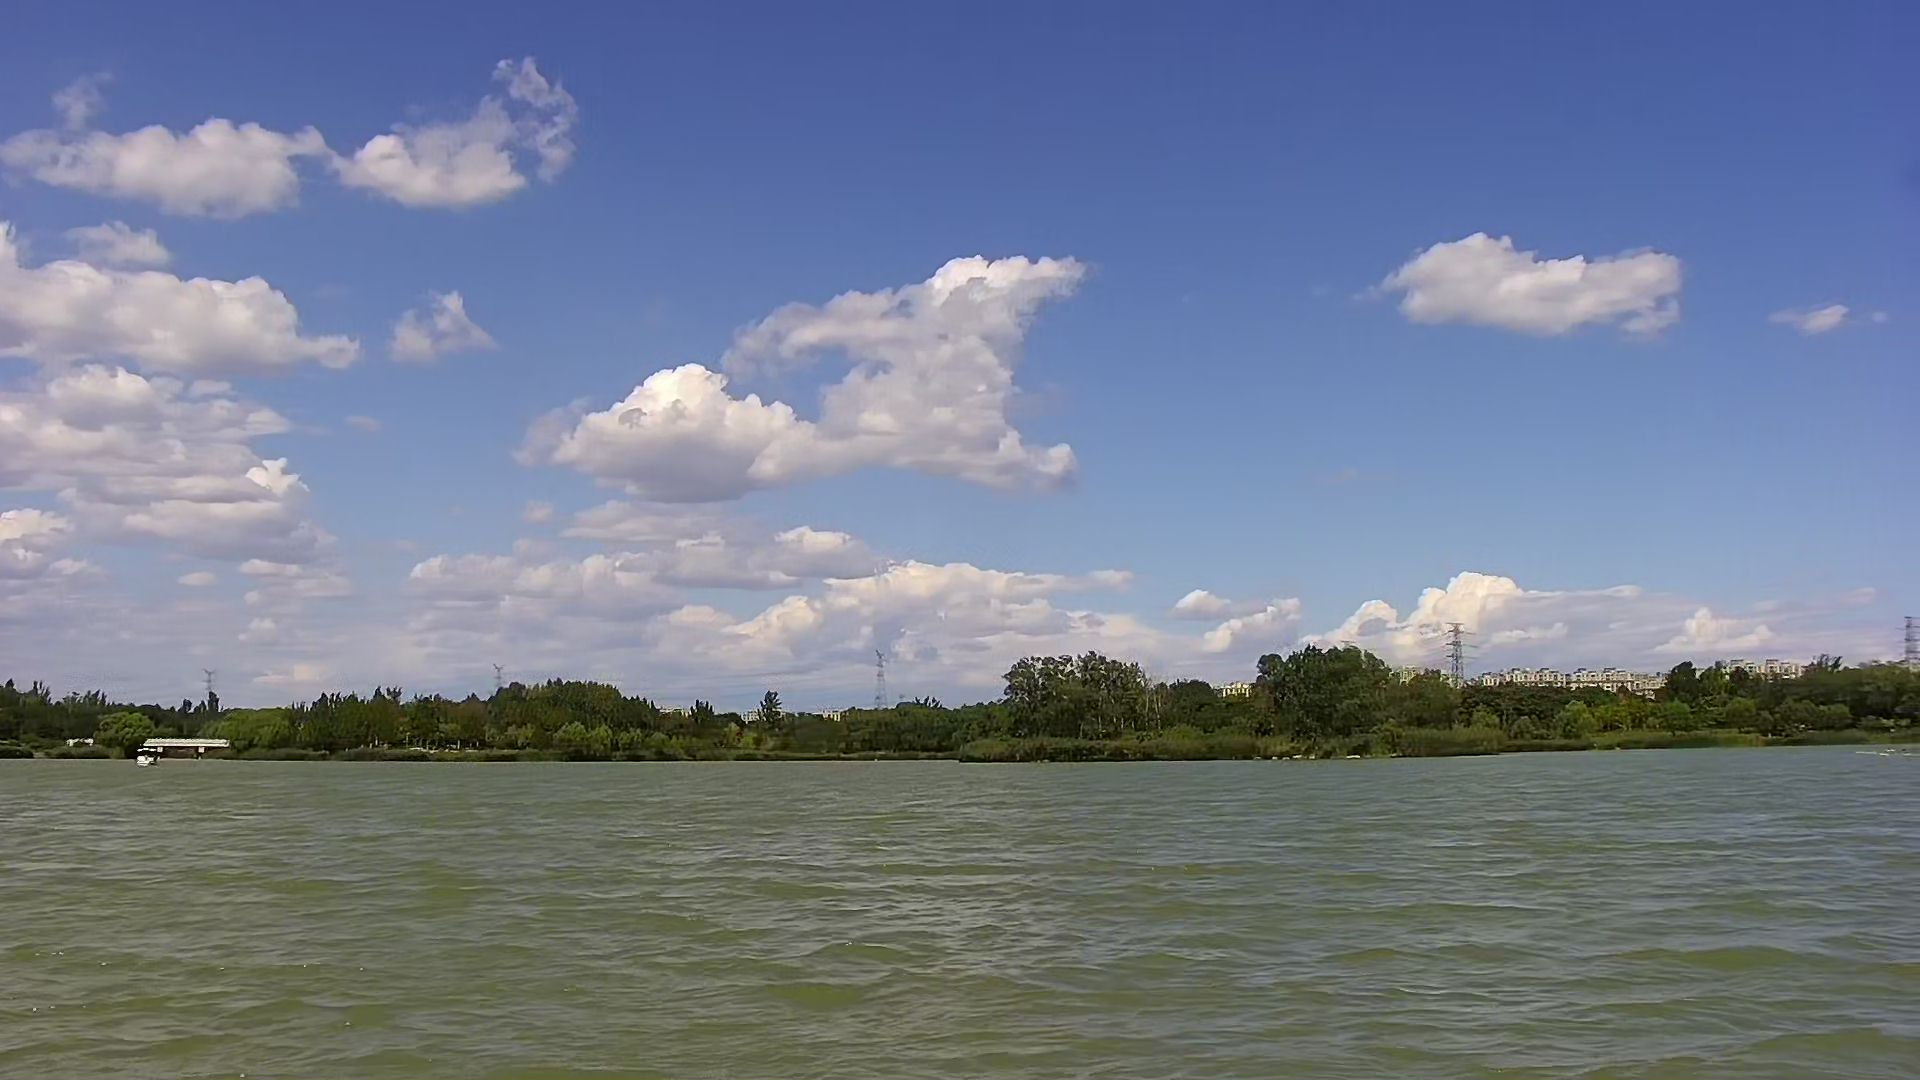bridge: (142, 731, 239, 766)
